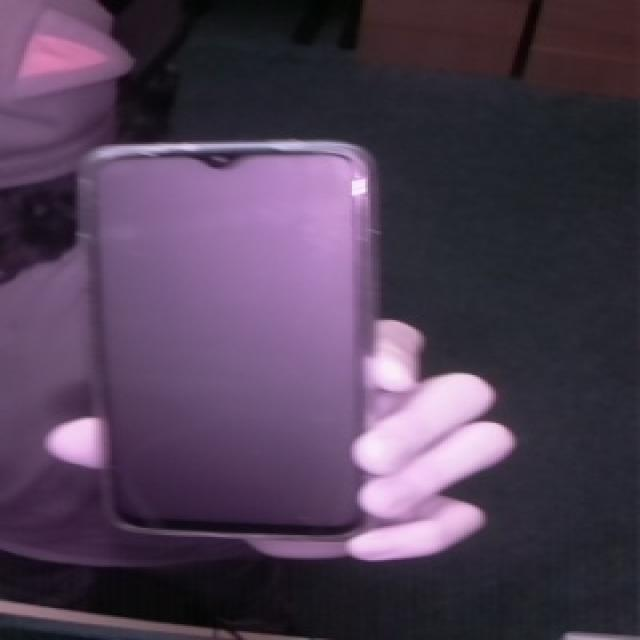phone: (60, 128, 406, 546)
